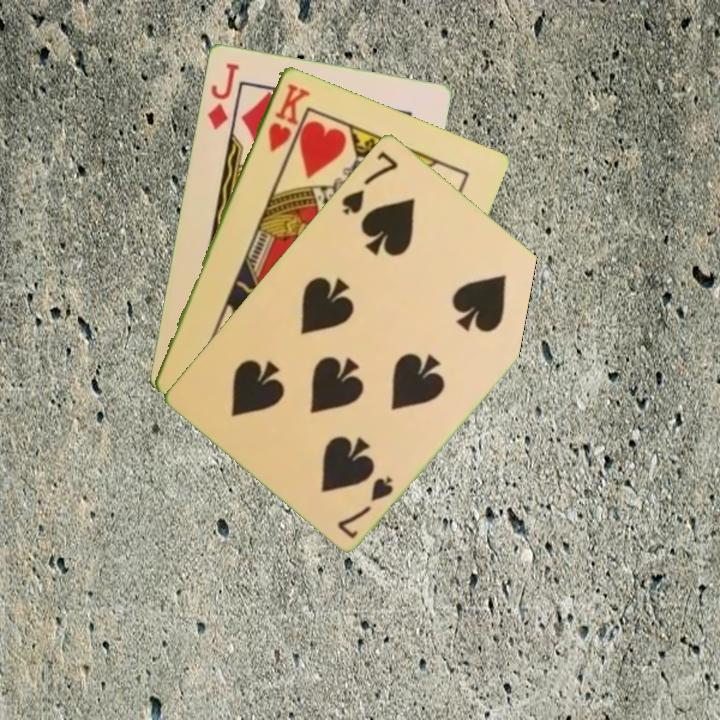7s: (337, 147, 401, 217), (334, 471, 396, 541)
Jd: (203, 58, 242, 132)
Kh: (264, 79, 312, 155)
